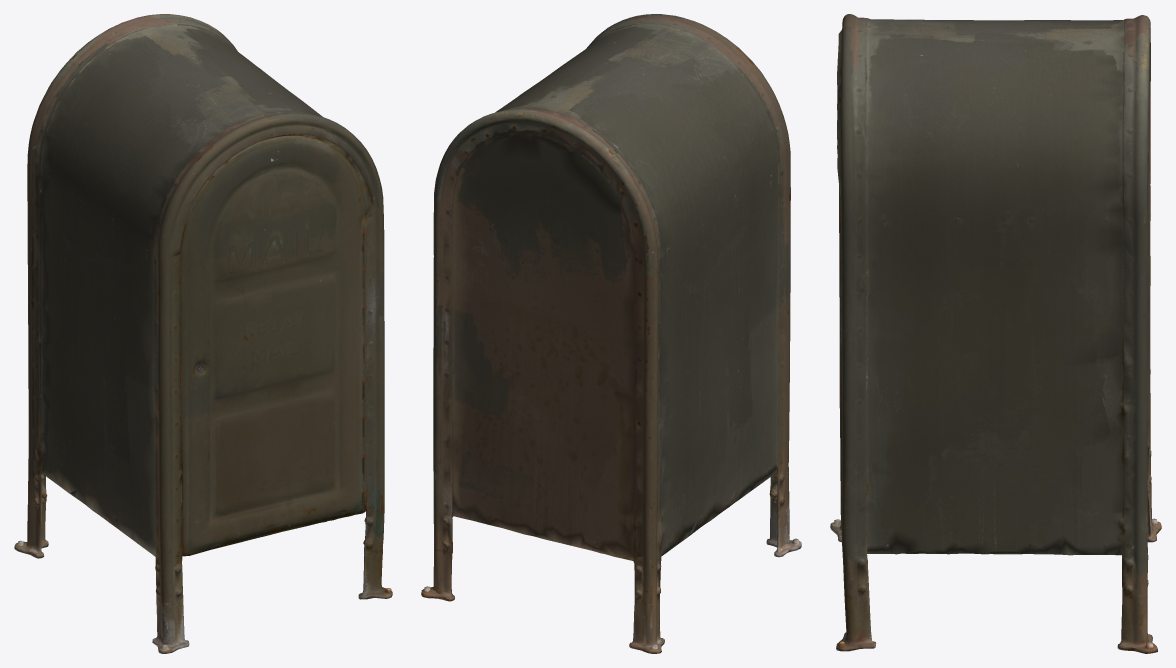
3 renders of one model, left to right at view 1: azimuth 30°, elevation 25°; view 2: azimuth 150°, elevation 25°; view 3: azimuth 270°, elevation 25°, orthographic. The views are drawn at different scales.
Parts seen in each view (by area): view 1: ujijbfhba_LOD0_TIER2_000; view 2: ujijbfhba_LOD0_TIER2_000; view 3: ujijbfhba_LOD0_TIER2_000.
Boxes of the visible parts, box(x1,y1,x2,y2) form: ujijbfhba_LOD0_TIER2_000: box(14, 14, 392, 653); ujijbfhba_LOD0_TIER2_000: box(421, 14, 801, 653); ujijbfhba_LOD0_TIER2_000: box(830, 14, 1161, 653).
Size of the model in its own units: 0.6255 by 1.26 by 0.673.
1 material, 1 textured.
